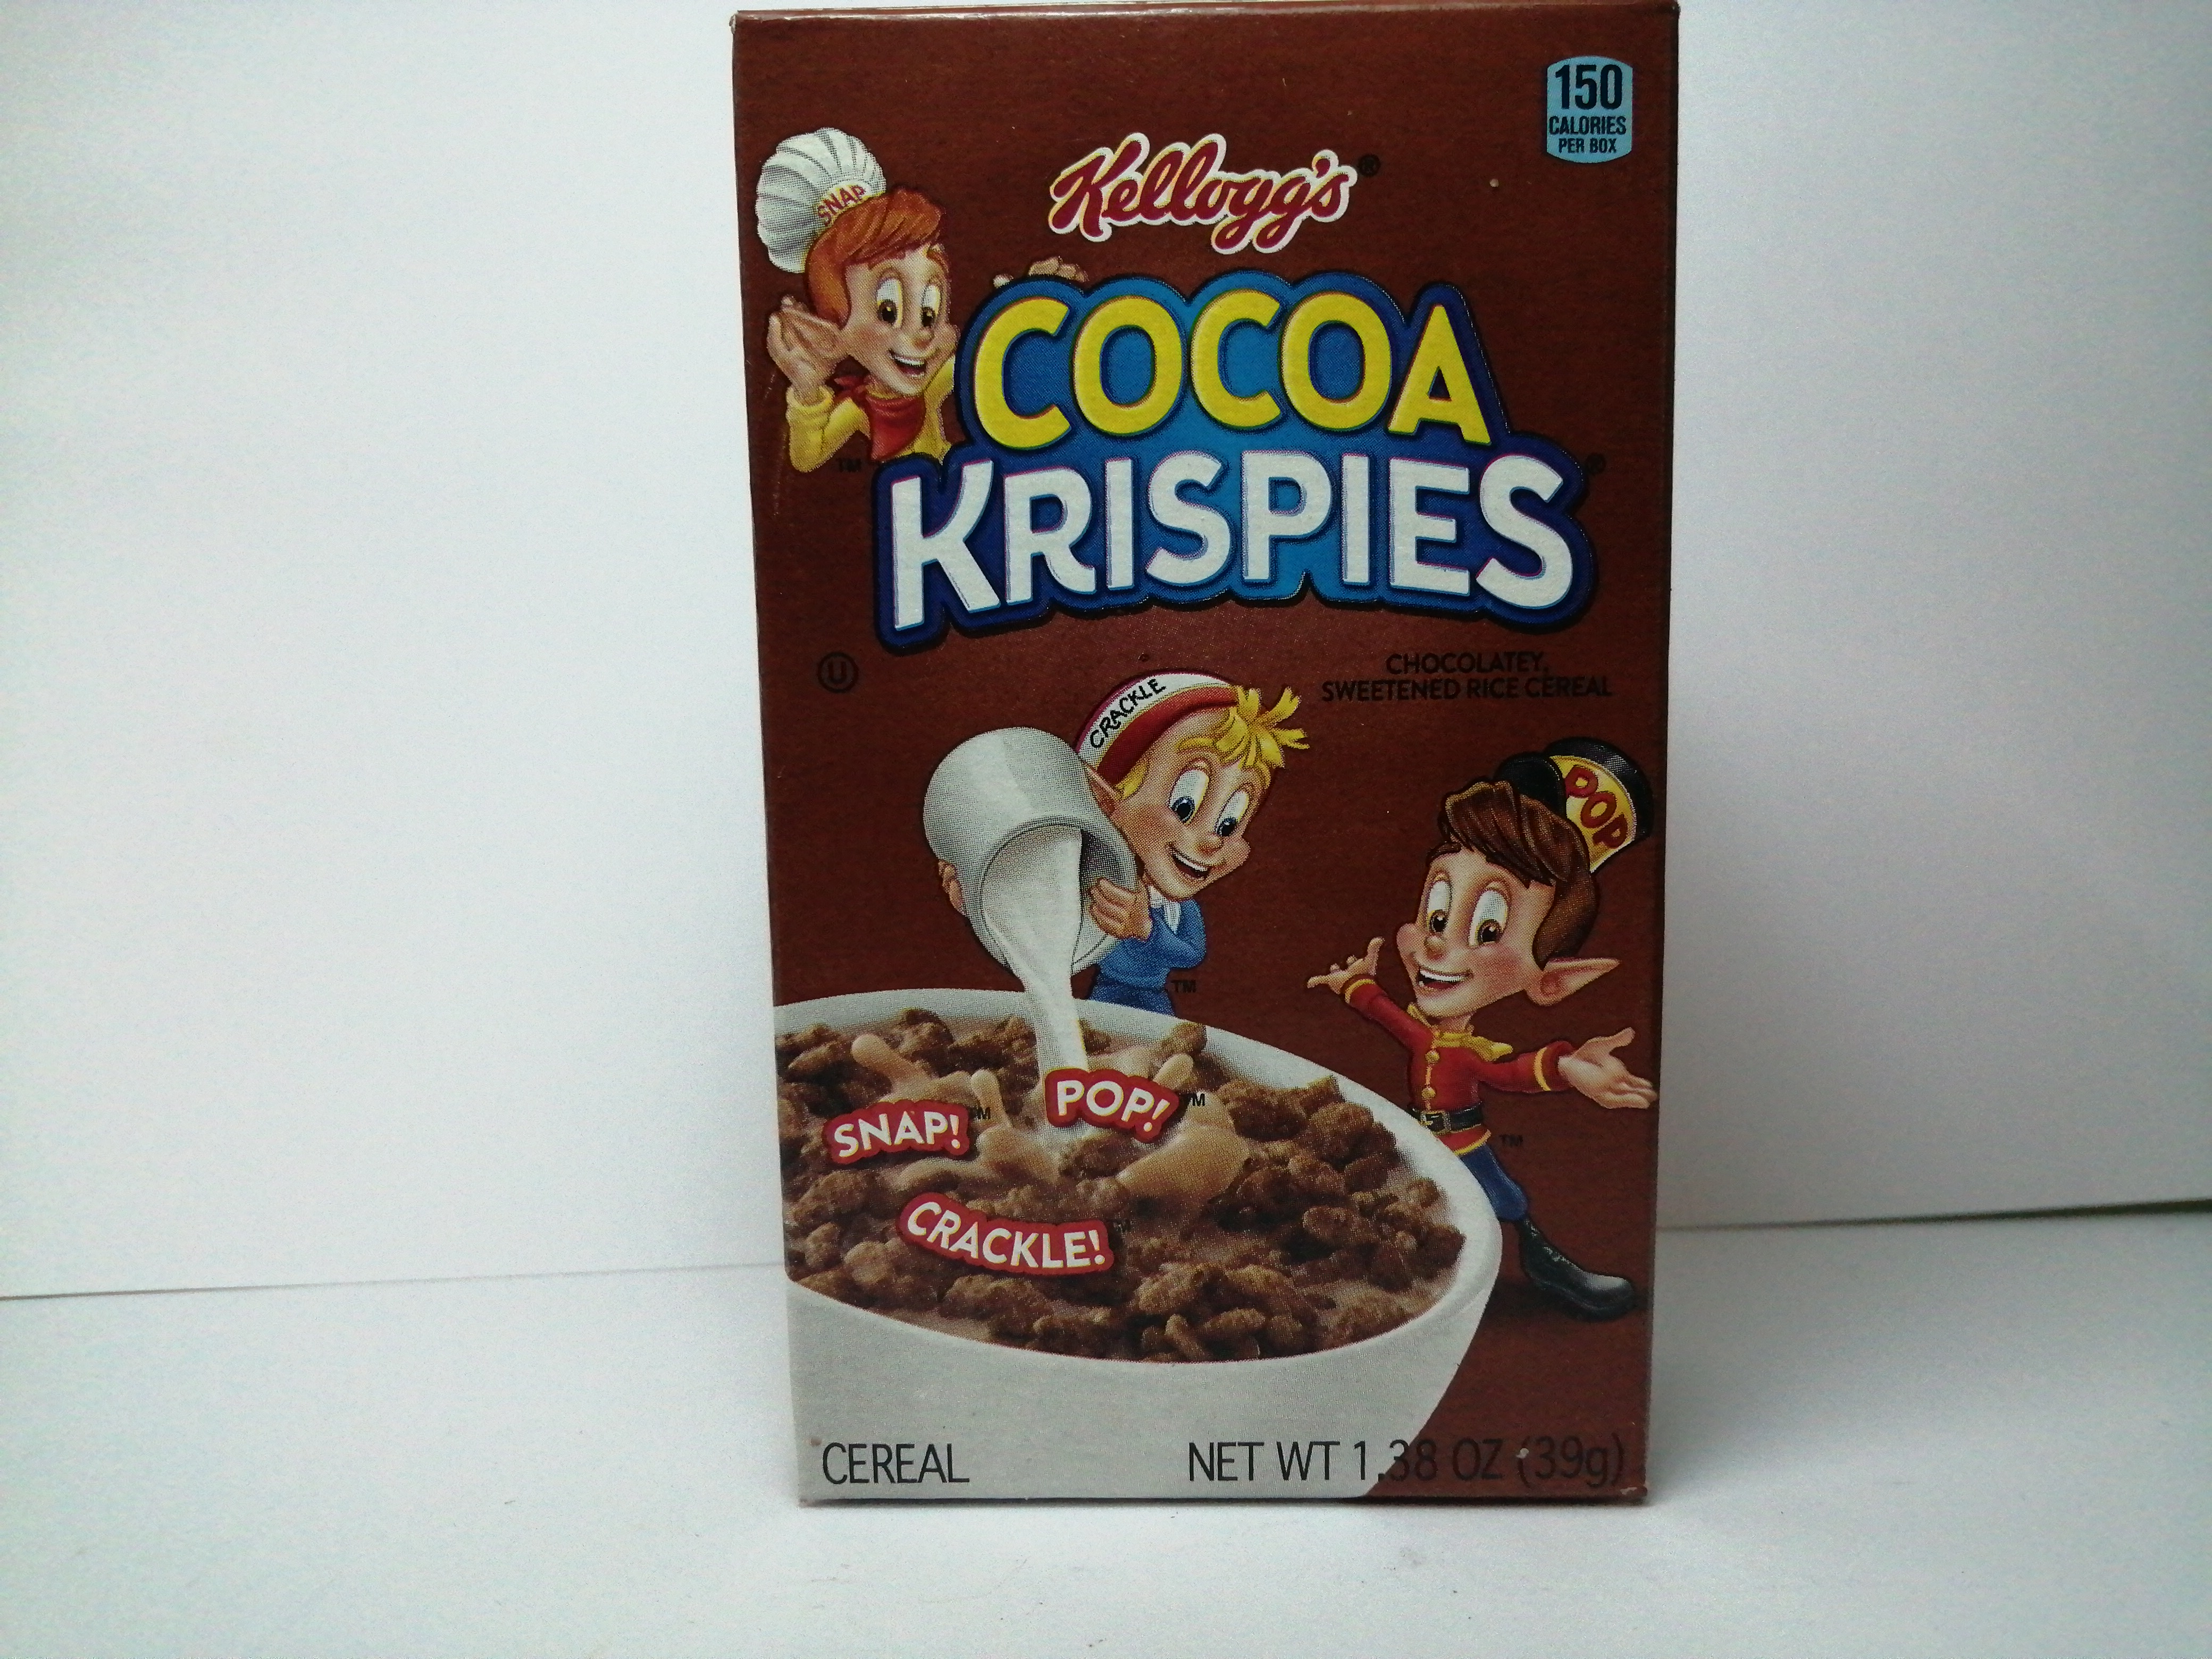cereal chocolate: (716, 0, 1679, 1521)
